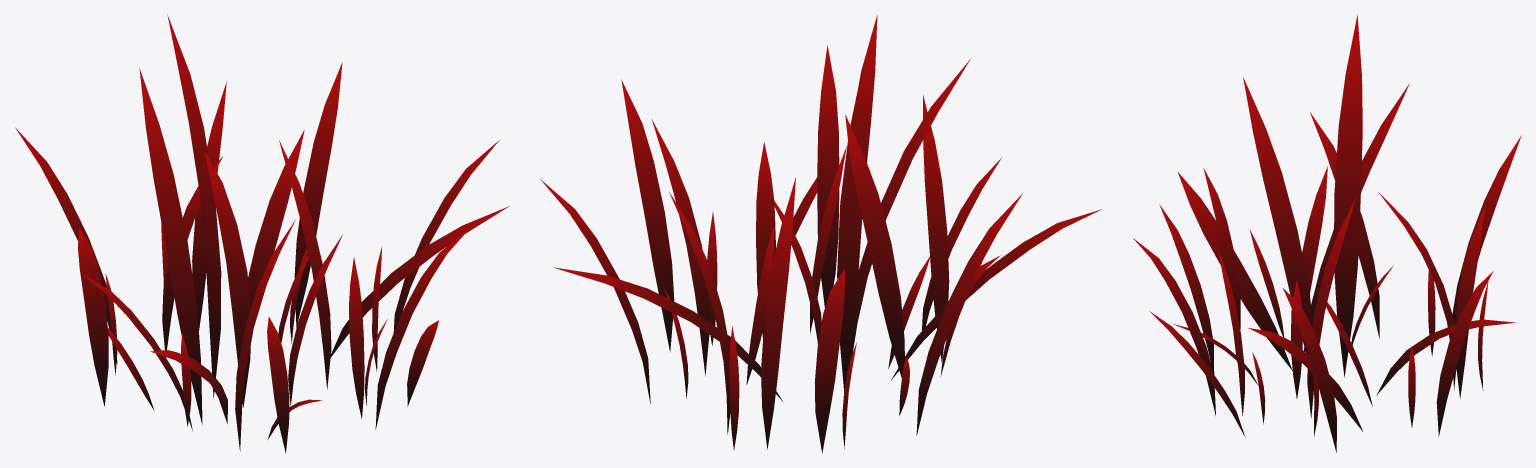
Rendered from grass 1.fbx.
The picture shows the model from 3 angles, left to right: view 1: azimuth 30°, elevation 25°; view 2: azimuth 150°, elevation 25°; view 3: azimuth 270°, elevation 25°; orthographic projection. The views are drawn at different scales.
Visible parts, largest first — view 1: Plane.016; view 2: Plane.016; view 3: Plane.016.
Part boxes in pixels (box(x1,y1,x2,y2)): Plane.016: box(15, 14, 509, 453); Plane.016: box(540, 15, 1101, 453); Plane.016: box(1133, 14, 1521, 452).
Bounding box in the file's own units: 421 × 390 × 390.
